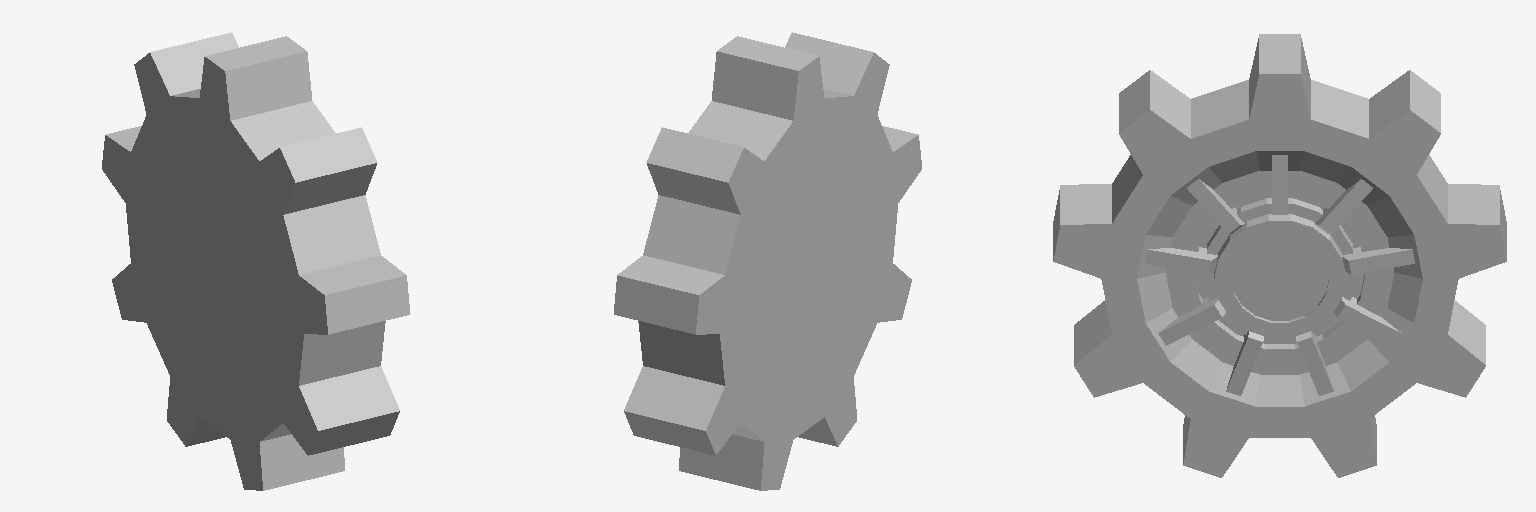
The model's file is vault_cog.obj.
The picture shows the model from 3 angles: view 1: azimuth 30°, elevation 25°; view 2: azimuth 150°, elevation 25°; view 3: azimuth 270°, elevation 25°; orthographic projection.
Parts seen in each view (by area): view 1: Cylinder; view 2: Cylinder; view 3: Cylinder.
Part boxes in pixels (x1,y1,x2,y2): Cylinder: (102, 32, 409, 490); Cylinder: (614, 32, 921, 490); Cylinder: (1053, 34, 1506, 477).
Bounding box in the file's own units: 0.9375 × 4.41 × 4.48.